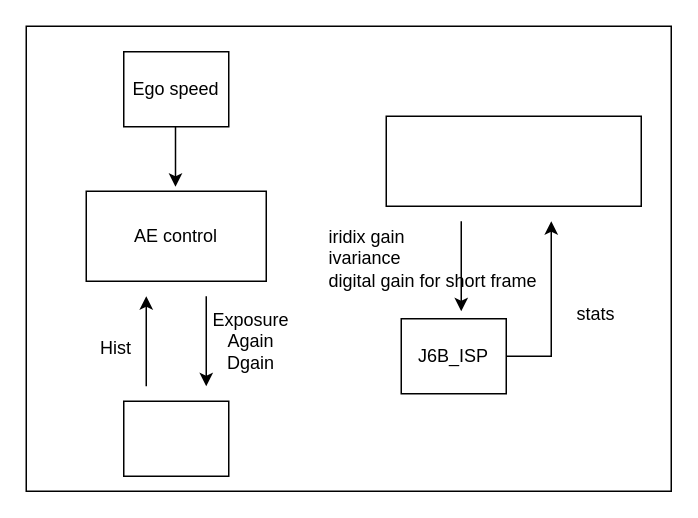
This 698x518 diagram has some shape labels left out. Here are the shapes that lost their labels. From the top down, the box of each, then its label:
(385, 115, 641, 206): ISP control
(122, 400, 229, 476): CMOS
